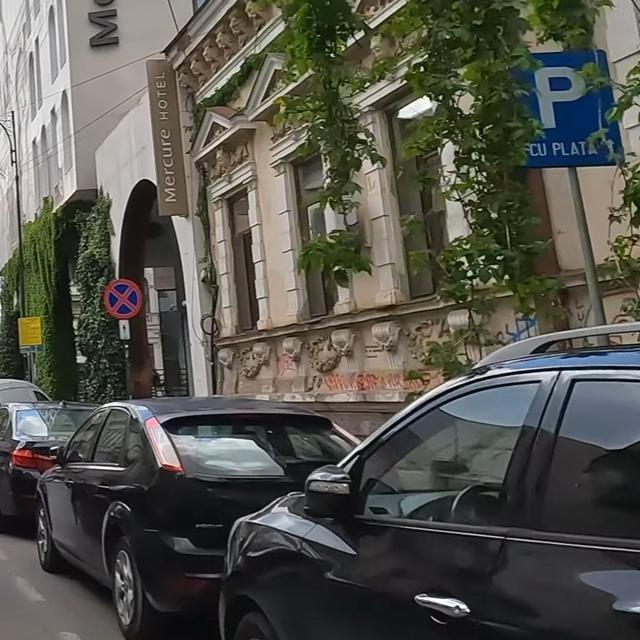forb_waiting: (103, 278, 143, 319)
